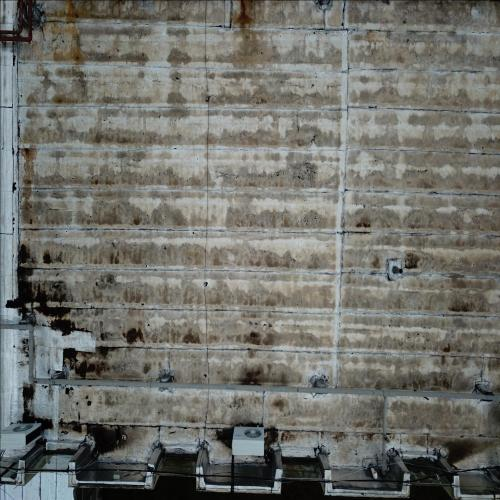conde: (228, 421, 270, 462)
